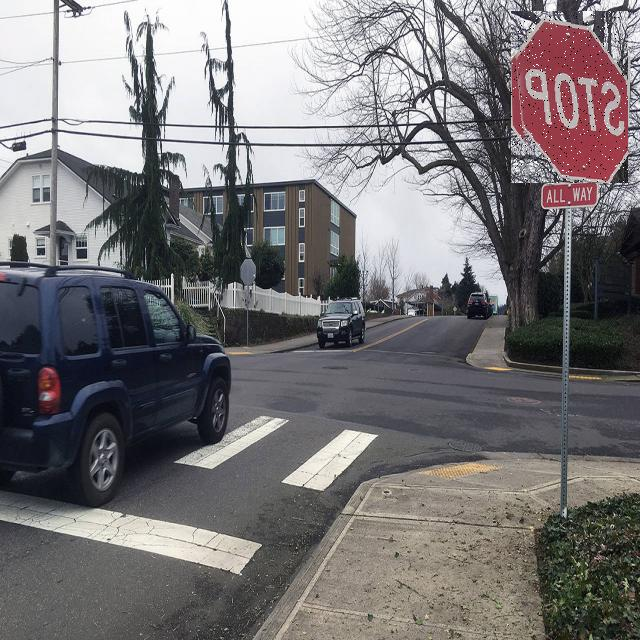stop: (511, 11, 628, 183)
